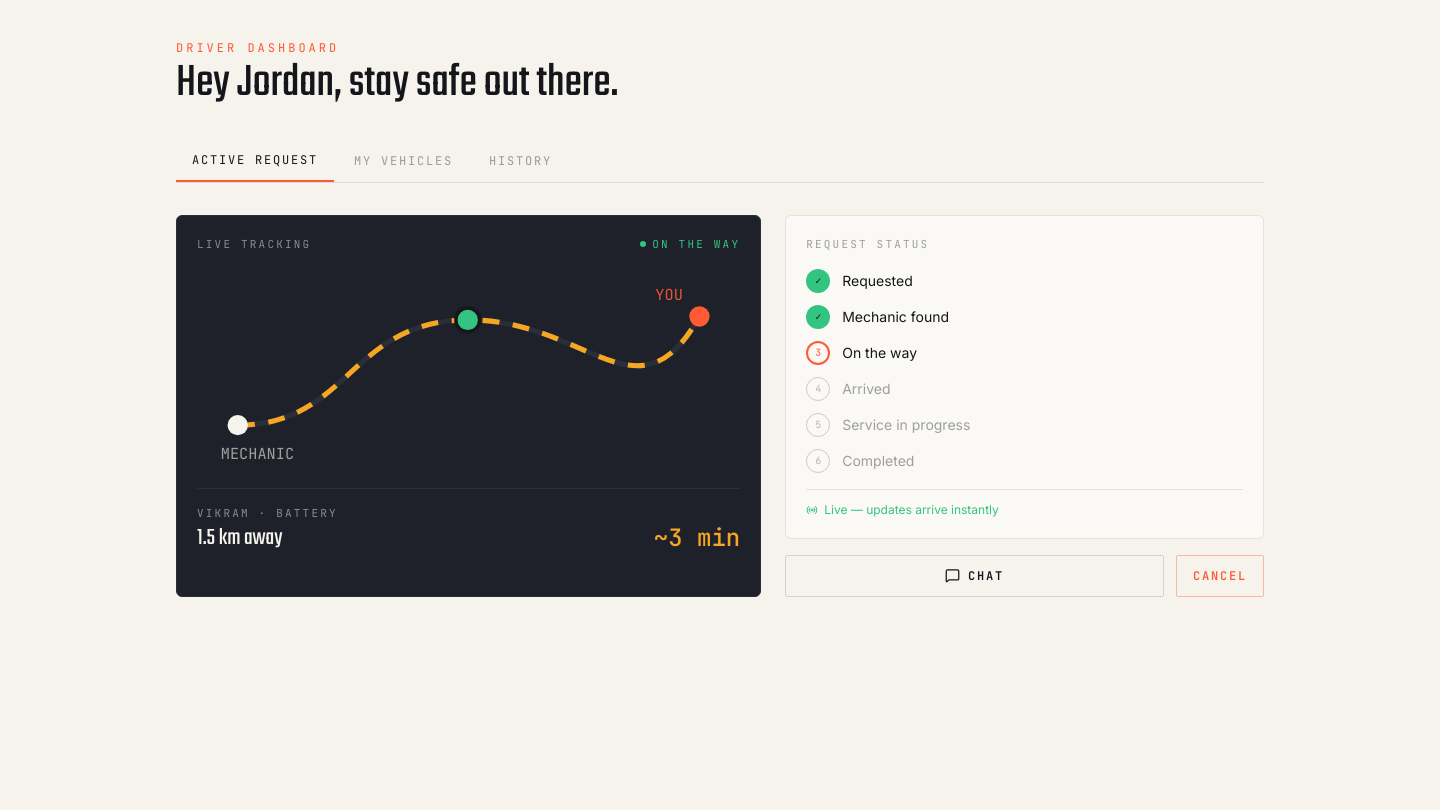
it: CustomerDashboard — live request, chat, rating › opens the chat panel for a matched request
Step 1. Click the button "Chat" → (975, 576), box [785,554,1164,596]
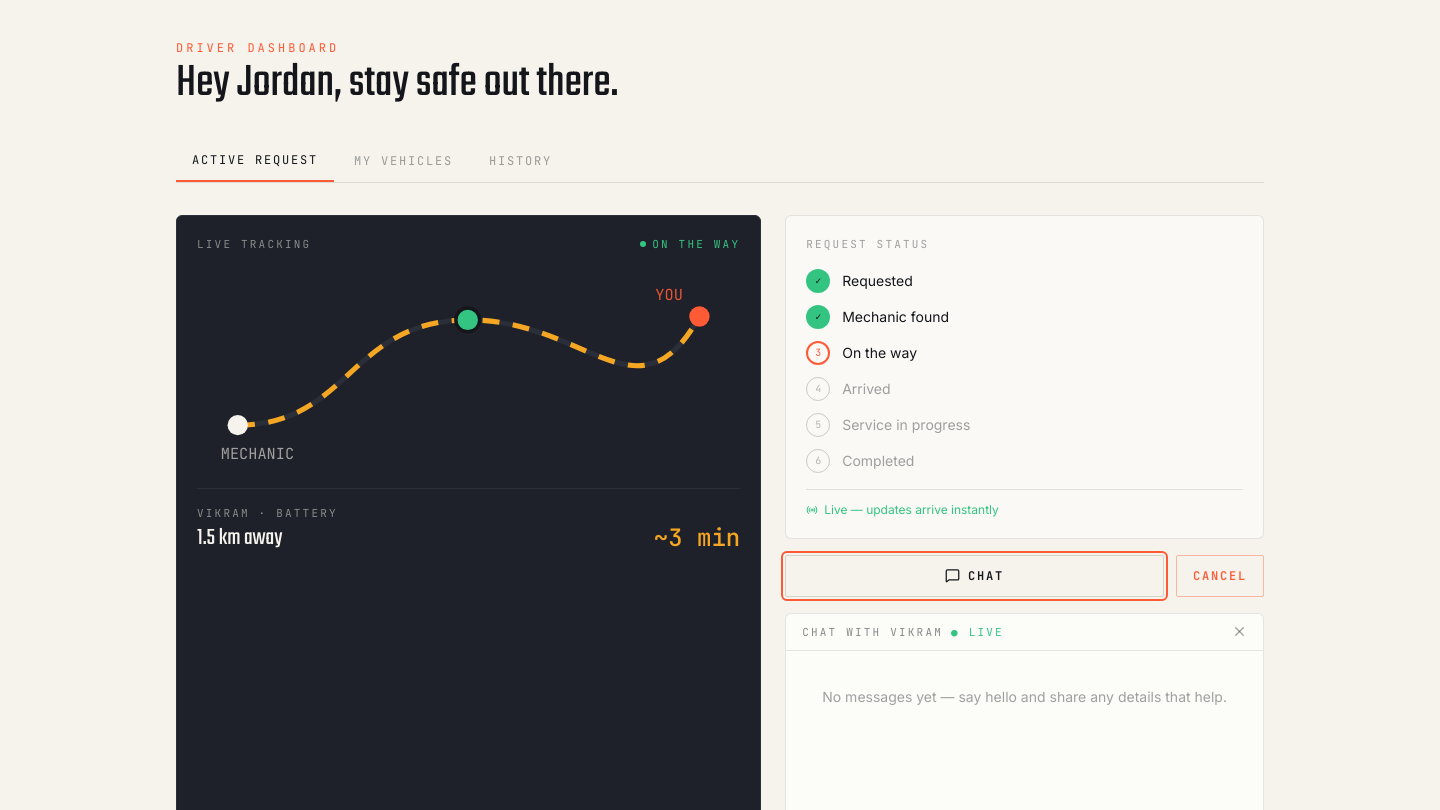
Expected: the text "Chat with Vikram● live" is shown, [802,624,1004,640]
